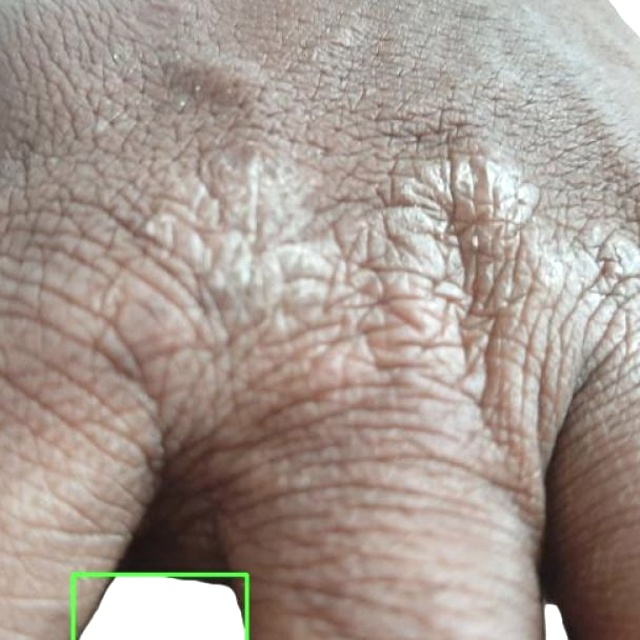Contact Dermatitis: (73, 574, 246, 639)
